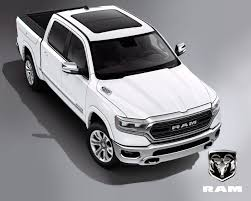Camioneta: (14, 4, 224, 172)
